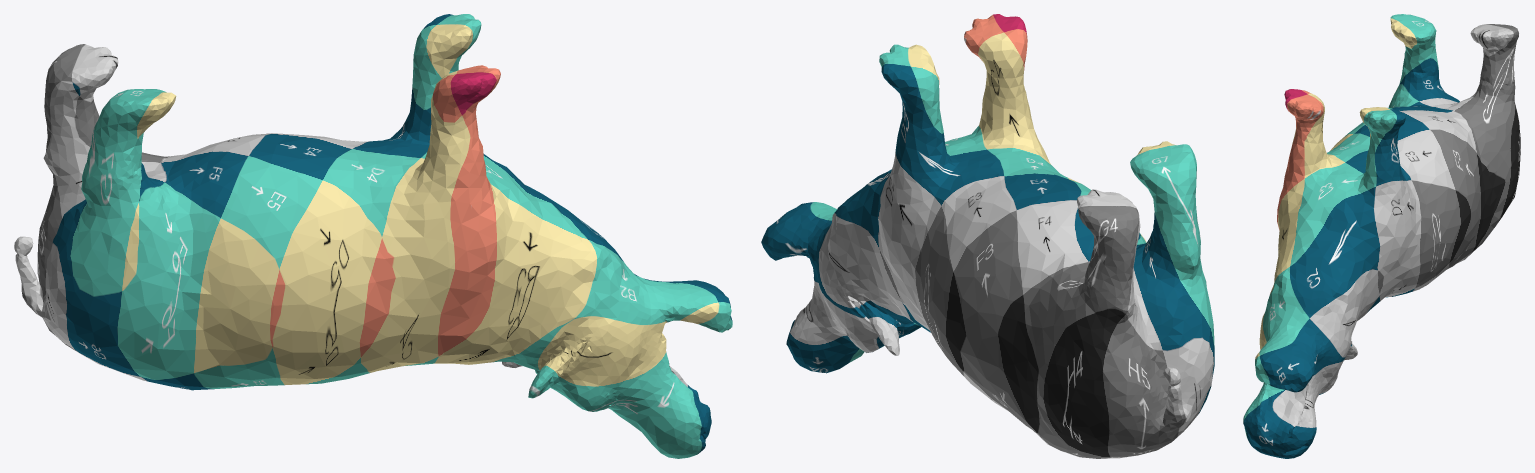
The model's file is hippo_06-hippo_05.obj.
3 renders of one model, left to right at view 1: azimuth 30°, elevation 25°; view 2: azimuth 150°, elevation 25°; view 3: azimuth 270°, elevation 25°, orthographic. The views are drawn at different scales.
Parts seen in each view (by area): view 1: hippo_06-hippo_05_export; view 2: hippo_06-hippo_05_export; view 3: hippo_06-hippo_05_export.
Boxes of the visible parts, x1,y1,x2,y2 form: hippo_06-hippo_05_export: [14, 14, 732, 458]; hippo_06-hippo_05_export: [761, 14, 1214, 458]; hippo_06-hippo_05_export: [1243, 14, 1520, 458].
Size of the model in its own units: 0.8678 by 0.6137 by 0.521.
